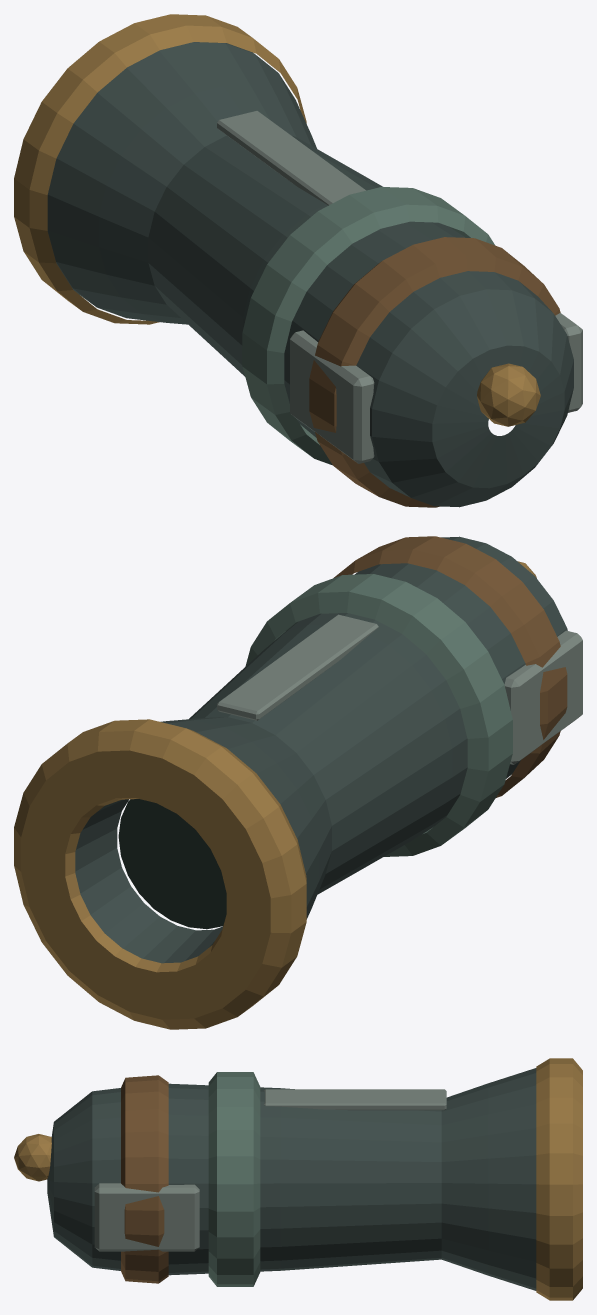
The model's file is gun_barrel_3.glb.
3 views of the same model, one above another, from view 1: azimuth 30°, elevation 25°; view 2: azimuth 150°, elevation 25°; view 3: azimuth 270°, elevation 25° (orthographic). The views are drawn at different scales.
Parts seen in each view (by area): view 1: Metal, Fabric; view 2: Metal, Fabric, Stone; view 3: Metal, Fabric.
Boxes of the visible parts, <box> form: Metal: <box>14,14,582,507</box>; Fabric: <box>242,187,495,465</box>; Metal: <box>14,536,582,1029</box>; Fabric: <box>245,574,512,856</box>; Stone: <box>118,799,226,929</box>; Metal: <box>14,1058,582,1300</box>; Fabric: <box>208,1072,260,1286</box>.
Bounding box in the file's own units: 1.62 × 1.62 × 3.83.
